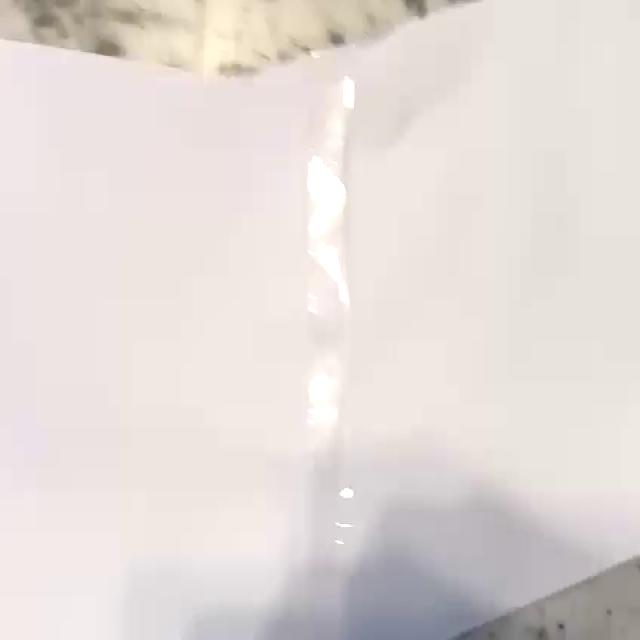road: (0, 3, 640, 637)
